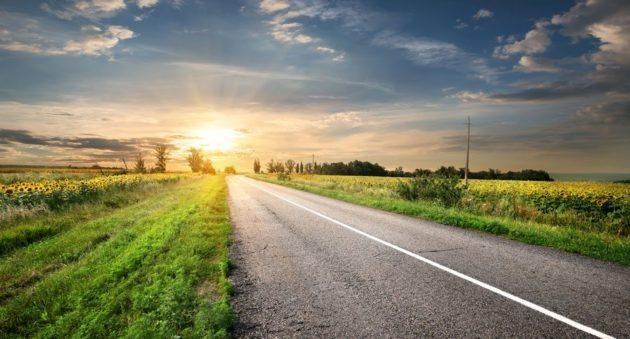light: (161, 99, 264, 167)
